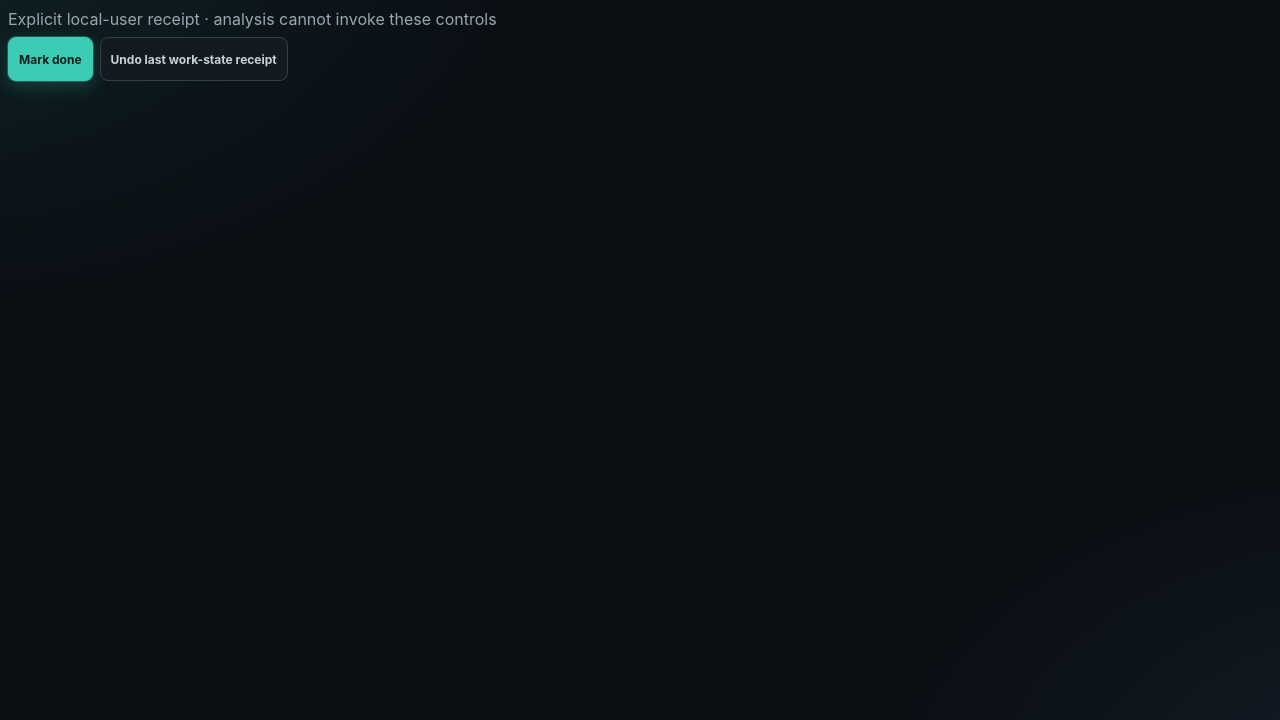
Test case: TaskLifecycleControls authority capture › submits correction against the captured head and exact undo states
Later steps or results of the test are not shown.
Click the button "Undo last work-state receipt": (194, 59) x1=100 y1=37 x2=288 y2=81
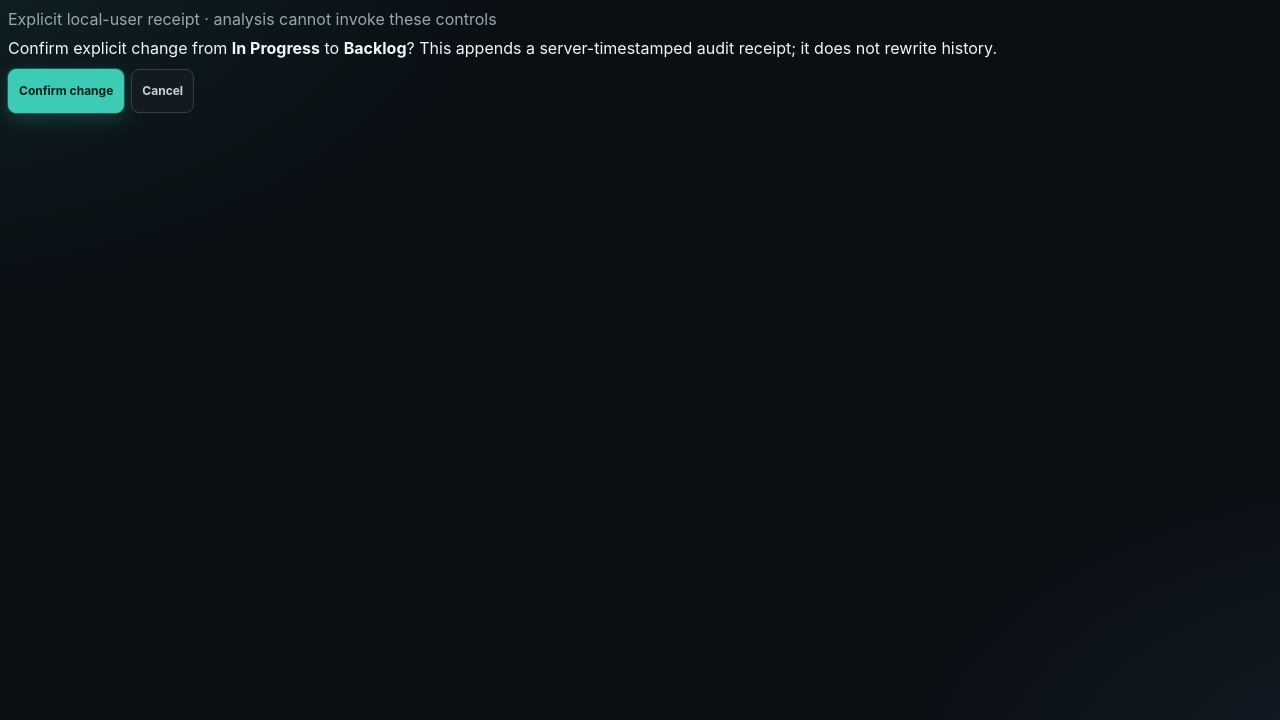
Now the element named "Confirm lifecycle command" shows "from In Progress to Backlog", box x1=8 y1=38 x2=997 y2=113
